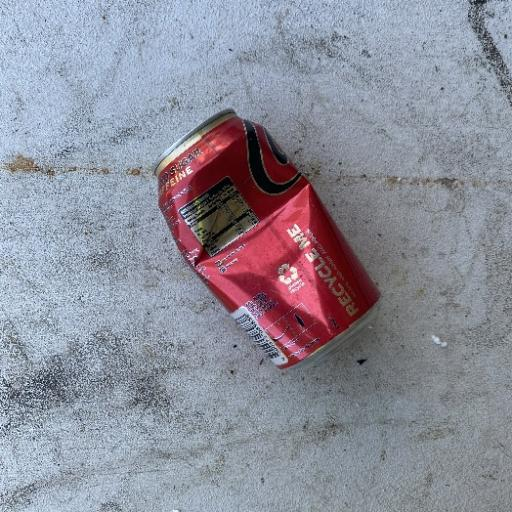Metal: (151, 108, 383, 372)
